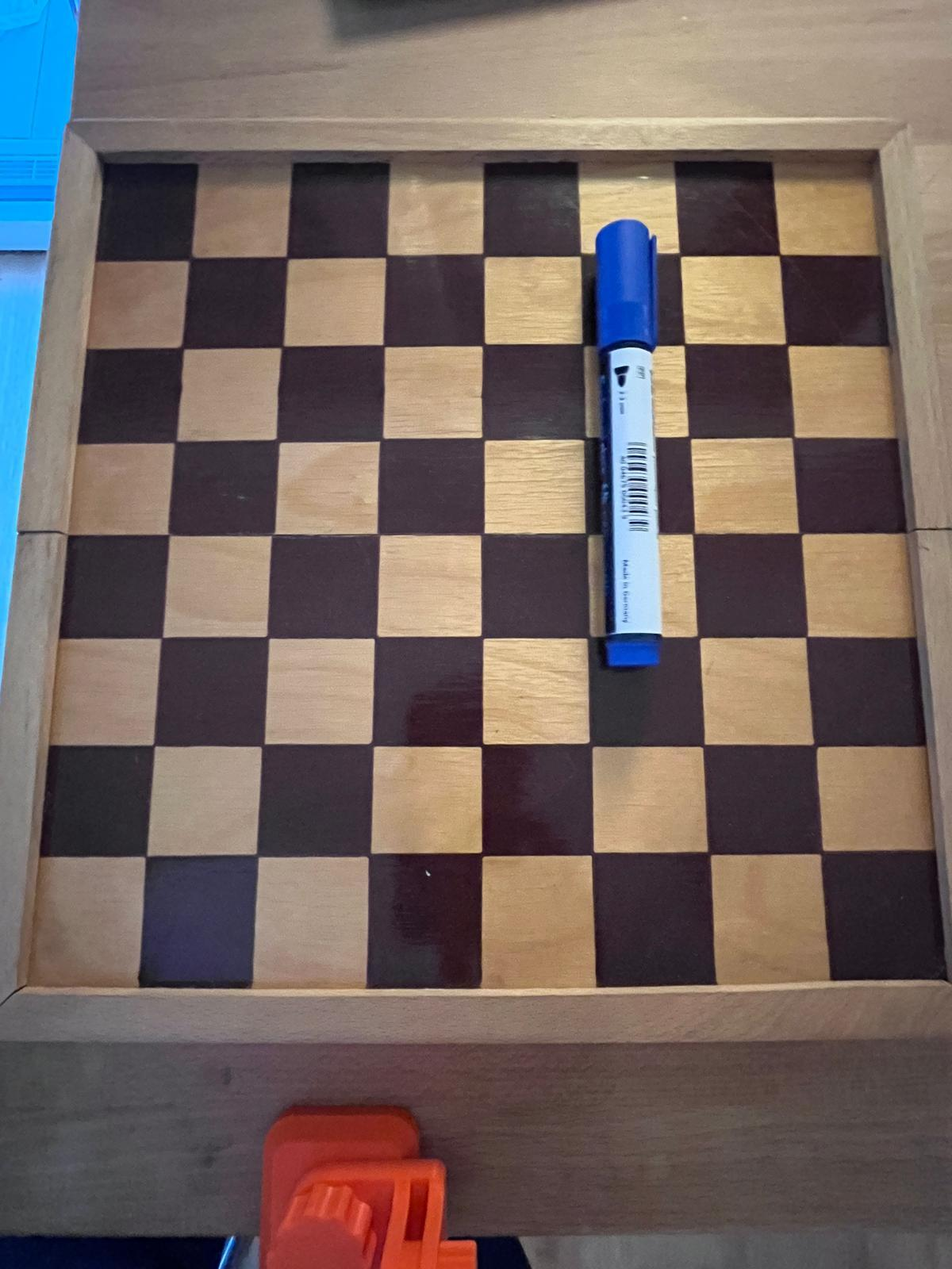marker: (598, 216, 665, 673)
